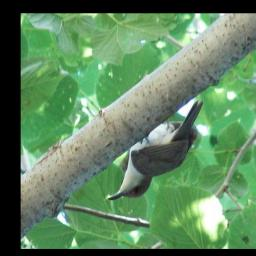Cuckoo: (105, 98, 205, 202)
